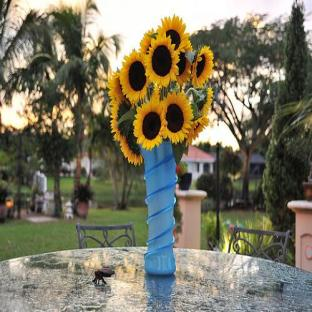sunflower: (144, 37, 179, 87)
